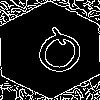Q: (25, 25, 91, 87)
